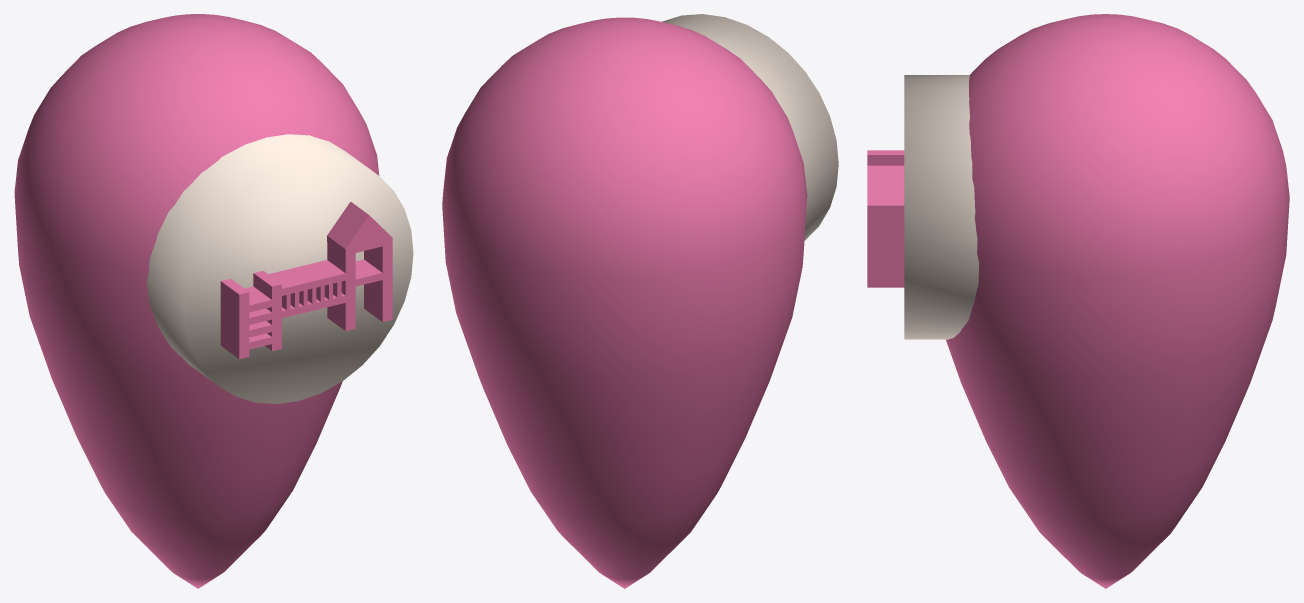
The model's file is playgroundPin.glb.
The picture shows the model from 3 angles, left to right: view 1: azimuth 30°, elevation 25°; view 2: azimuth 150°, elevation 25°; view 3: azimuth 270°, elevation 25°; orthographic projection.
Visible parts, largest first — view 1: pin.012, Cylinder.054, Cube.004, Cube.022, Cube.007, Cube.008, Cube.006, Cube.005, Cube.010, Cube.009, Cube.011; view 2: pin.012, Cylinder.054; view 3: pin.012, Cylinder.054, Cube.007, Cube.022, Cube.004.
Part boxes in pixels (left/top/right/bottom): pin.012: left=14, top=14, right=379, bottom=588; Cylinder.054: left=146, top=134, right=413, bottom=404; Cube.004: left=220, top=278, right=249, bottom=359; Cube.022: left=327, top=201, right=392, bottom=255; Cube.007: left=364, top=244, right=392, bottom=322; Cube.008: left=268, top=260, right=348, bottom=296; Cube.006: left=327, top=242, right=355, bottom=330; Cube.005: left=253, top=270, right=281, bottom=351; Cube.010: left=352, top=259, right=388, bottom=286; Cube.009: left=279, top=293, right=348, bottom=318; Cube.011: left=243, top=286, right=278, bottom=313; pin.012: left=442, top=17, right=807, bottom=588; Cylinder.054: left=662, top=14, right=838, bottom=240; pin.012: left=946, top=14, right=1289, bottom=588; Cylinder.054: left=904, top=75, right=979, bottom=339; Cube.007: left=867, top=212, right=904, bottom=287; Cube.022: left=867, top=165, right=904, bottom=211; Cube.004: left=867, top=150, right=904, bottom=165.
Size of the model in its own units: 0.2435 by 0.4072 by 0.2795.
